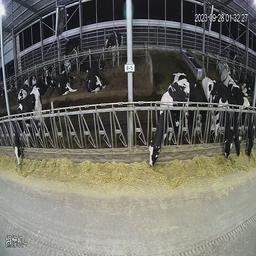cow: (146, 79, 193, 172), (200, 74, 231, 162), (10, 87, 43, 166), (224, 78, 255, 161), (174, 70, 208, 139), (216, 77, 241, 150), (85, 59, 107, 94), (16, 76, 36, 111), (105, 31, 124, 62), (57, 68, 77, 97), (36, 73, 55, 98), (63, 39, 79, 65)
